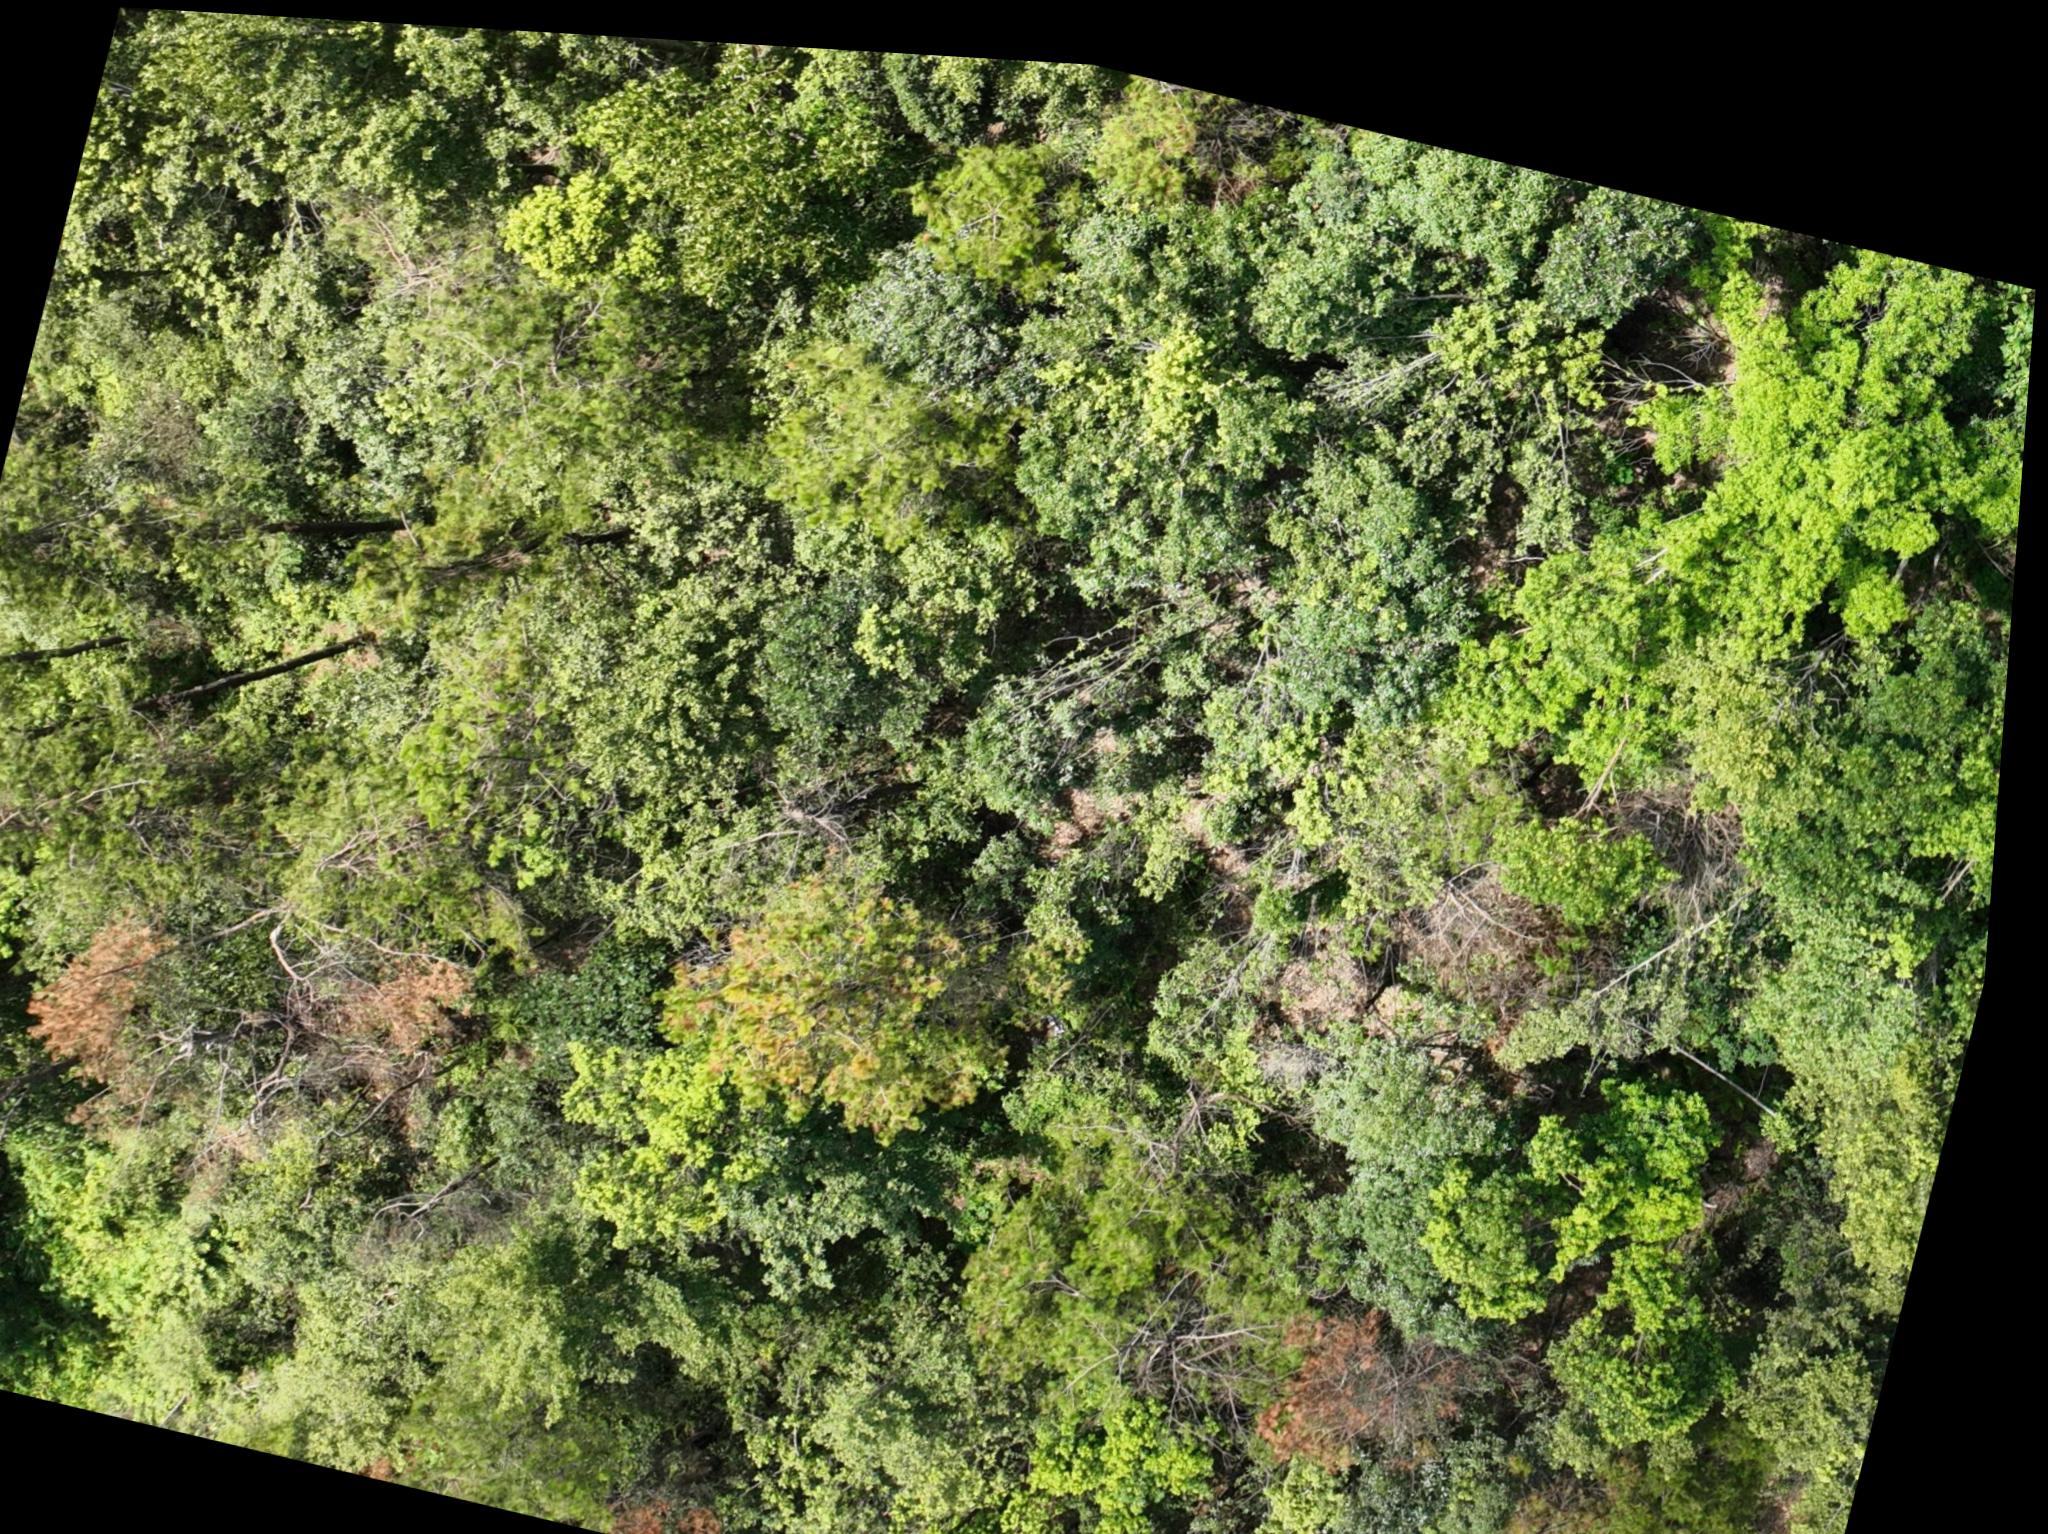heavy: (665, 825, 1036, 1146), (1262, 1265, 1505, 1486), (23, 881, 201, 1120), (301, 917, 511, 1081)
light: (1474, 1444, 1705, 1534)
